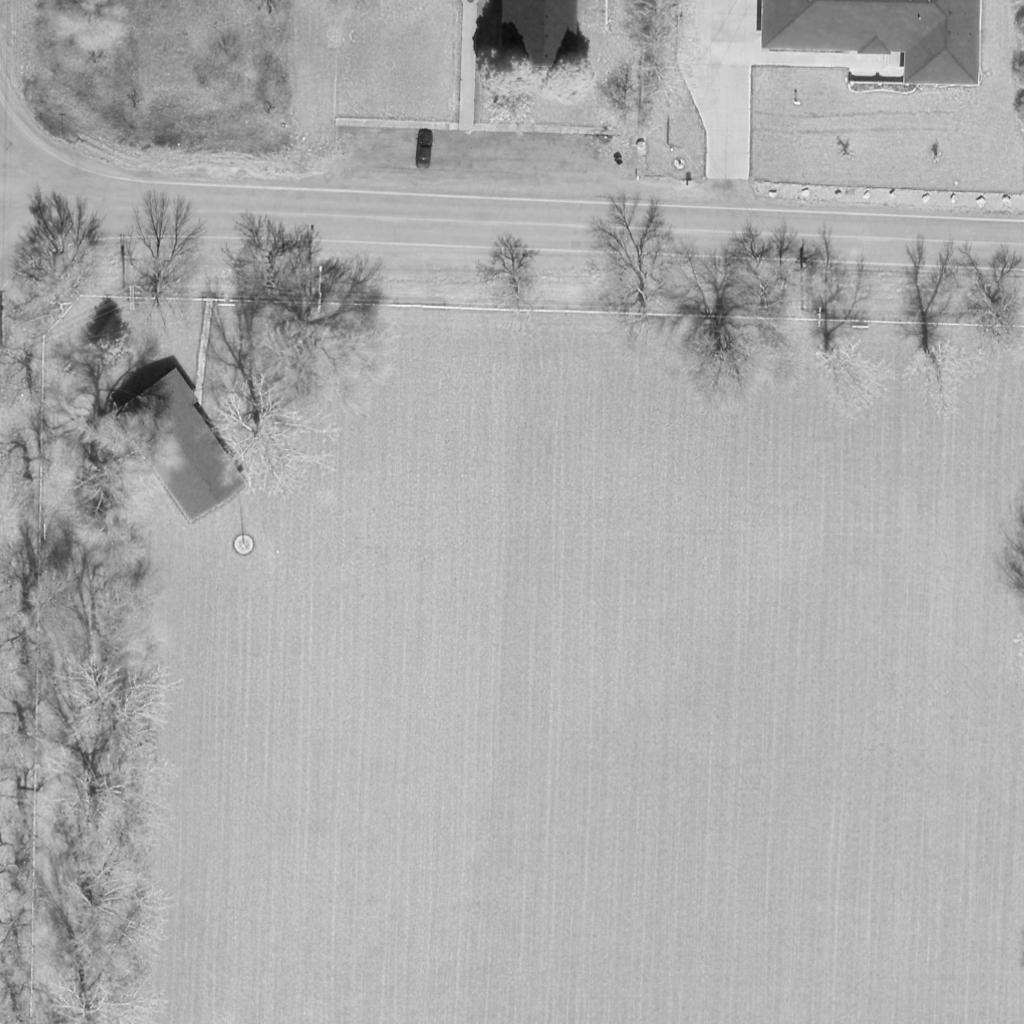vehicle: (415, 129, 435, 169)
